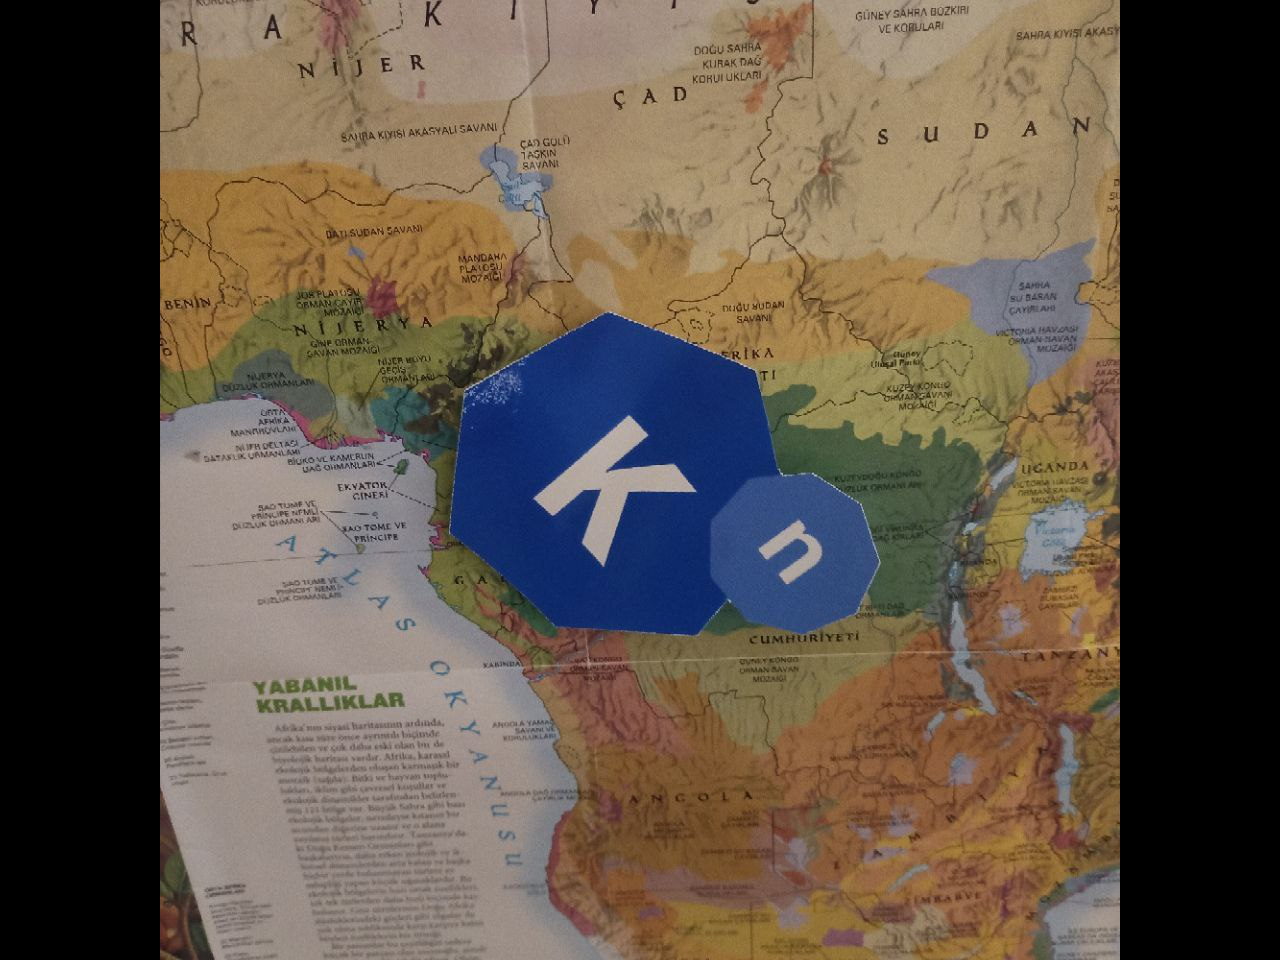knative: (447, 311, 883, 640)
